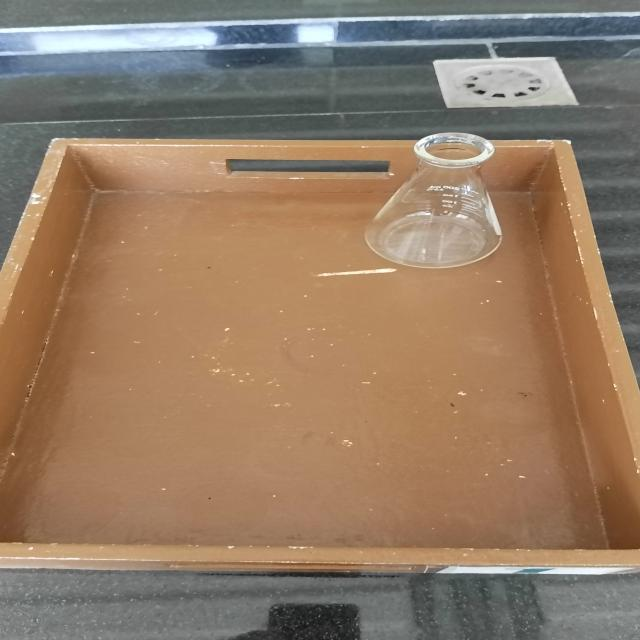erlenmeyer_flask: (350, 129, 519, 272)
